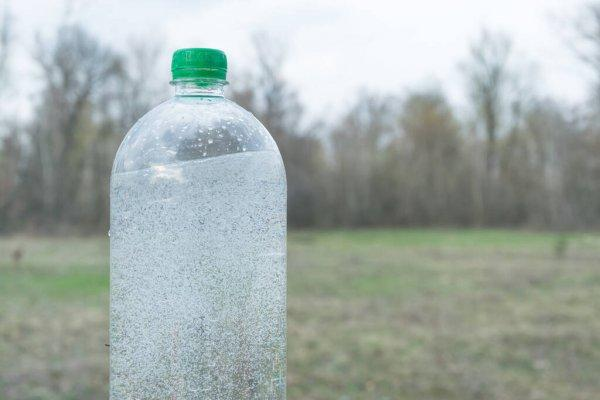bottle: (99, 30, 313, 400)
